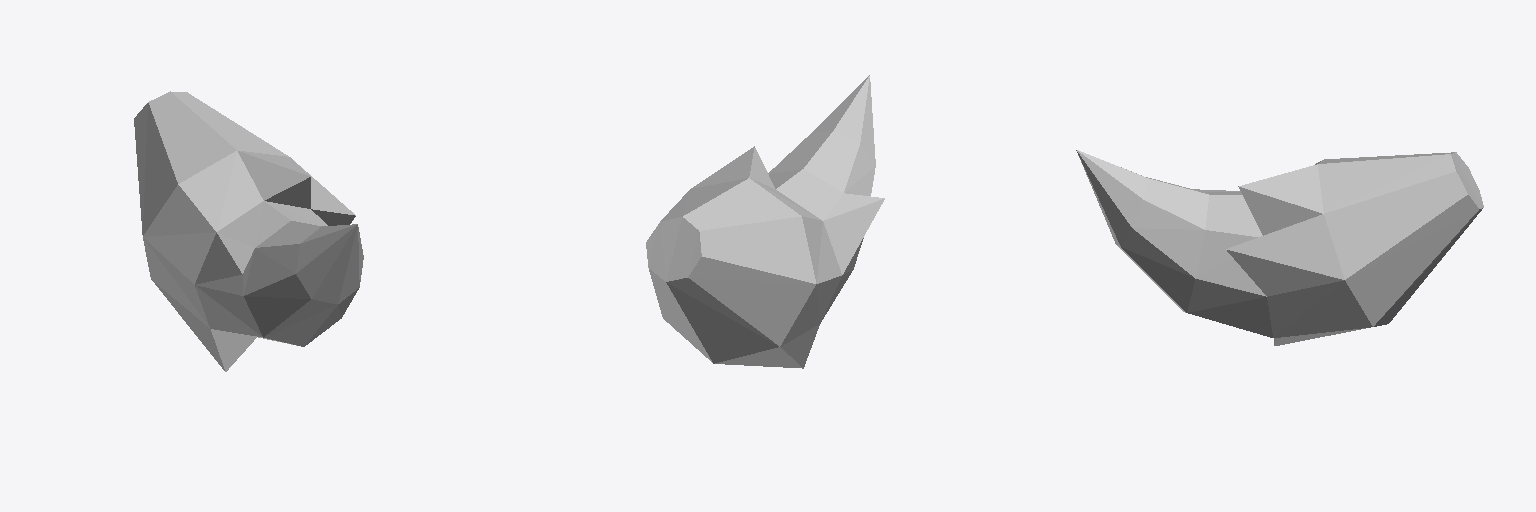
The model's file is Tail.obj.
3 views of the same model, side by side, from view 1: azimuth 30°, elevation 25°; view 2: azimuth 150°, elevation 25°; view 3: azimuth 270°, elevation 25° (orthographic).
Parts seen in each view (by area): view 1: Tail1; view 2: Tail1; view 3: Tail1.
Part boxes in pixels (left/top/right/bottom): Tail1: left=134, top=91, right=363, bottom=371; Tail1: left=646, top=75, right=884, bottom=368; Tail1: left=1076, top=150, right=1483, bottom=345.
Size of the model in its own units: 1.61 by 2.03 by 3.52.